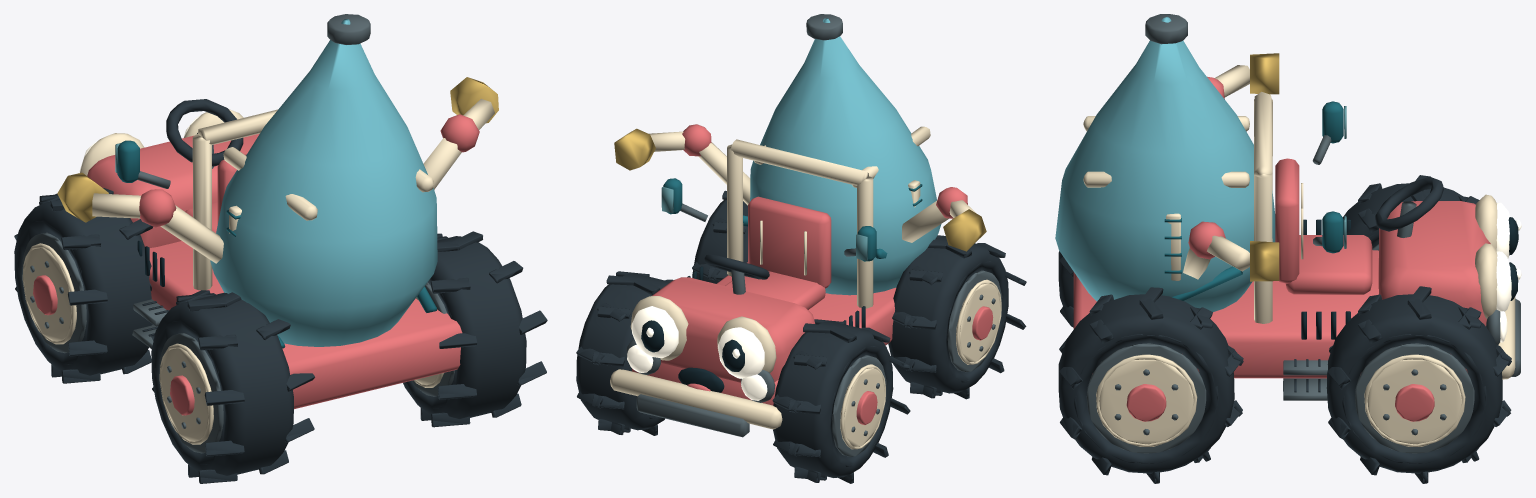
Rendered from pingo_mobile.glb.
The picture shows the model from 3 angles, left to right: view 1: azimuth 30°, elevation 25°; view 2: azimuth 150°, elevation 25°; view 3: azimuth 270°, elevation 25°; orthographic projection. The views are drawn at different scales.
Parts seen in each view (by area): view 1: Tank, Body, WheelRL, WheelFL, WheelRR, BoomL, BoomR, Eyes; view 2: Body, Tank, WheelFL, WheelRL, WheelFR, Eyes, BoomR, BoomL, WheelRR; view 3: Tank, Body, WheelRR, WheelFR, Eyes, BoomR, WheelFL, BoomL, WheelRL.
Boxes of the visible parts, x1,y1,x2,y2 form: Tank: [210, 14, 437, 348]; Body: [87, 99, 462, 409]; WheelRL: [151, 290, 314, 483]; WheelFL: [14, 188, 153, 383]; WheelRR: [403, 231, 547, 427]; BoomL: [57, 172, 223, 263]; BoomR: [423, 77, 498, 189]; Eyes: [79, 109, 243, 175]; Body: [610, 139, 896, 437]; Tank: [743, 14, 941, 295]; WheelFL: [772, 319, 910, 483]; WheelRL: [888, 235, 1026, 399]; WheelFR: [576, 271, 673, 435]; Eyes: [630, 296, 776, 378]; BoomR: [614, 124, 750, 205]; BoomL: [902, 187, 986, 251]; WheelRR: [692, 190, 747, 283]; Tank: [1055, 14, 1275, 311]; Body: [1073, 91, 1520, 400]; WheelRR: [1058, 287, 1243, 483]; WheelFR: [1326, 286, 1511, 483]; Eyes: [1475, 194, 1521, 318]; BoomR: [1183, 221, 1279, 281]; WheelFL: [1343, 175, 1479, 250]; BoomL: [1207, 53, 1279, 99]; WheelRL: [1058, 251, 1073, 327].
Bounding box in the file's own units: 3.6 × 3.33 × 3.48.
